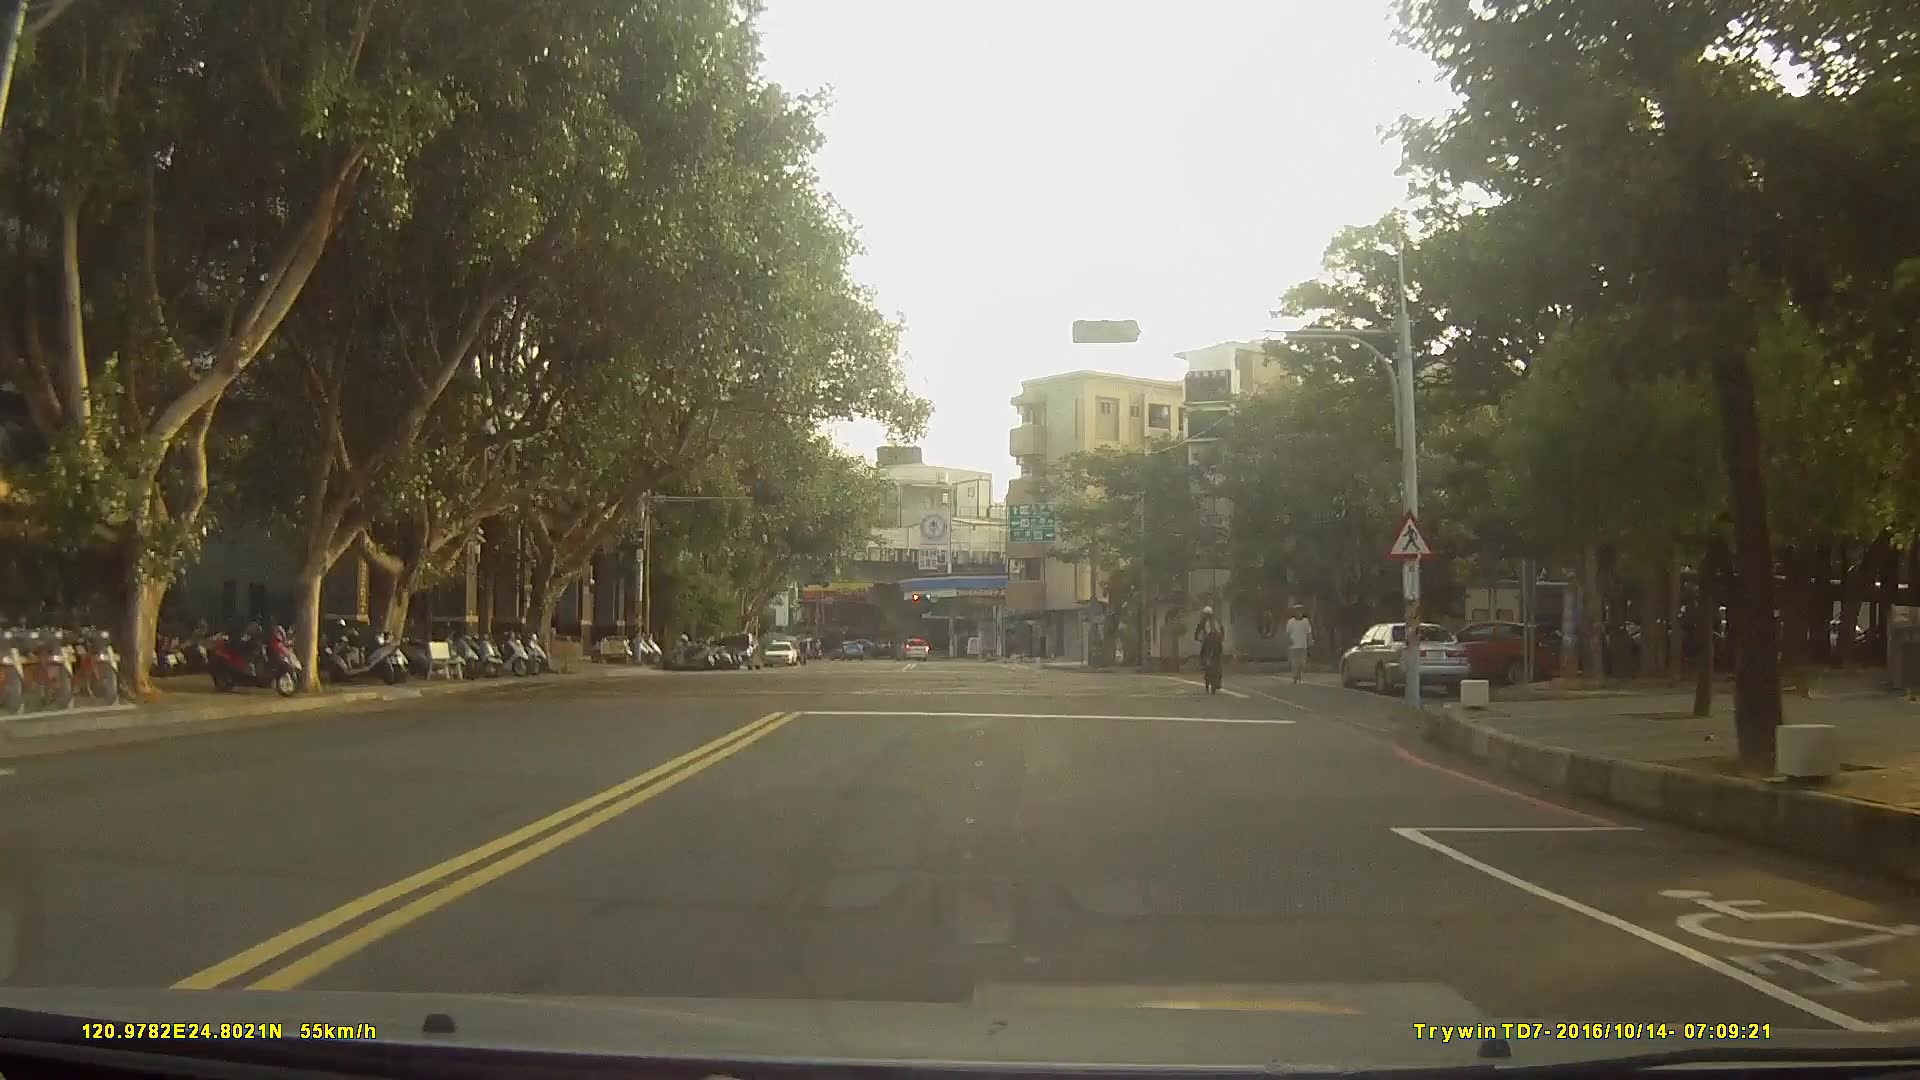pedestrian: (1282, 600, 1317, 699)
rider: (1193, 607, 1225, 696)
vehicle: (1340, 619, 1471, 694), (1428, 619, 1552, 687), (713, 629, 762, 669), (762, 637, 796, 666), (894, 634, 927, 659)
